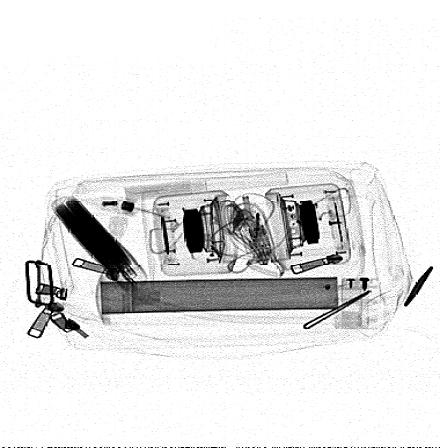Powerbank: (49, 195, 148, 295)
